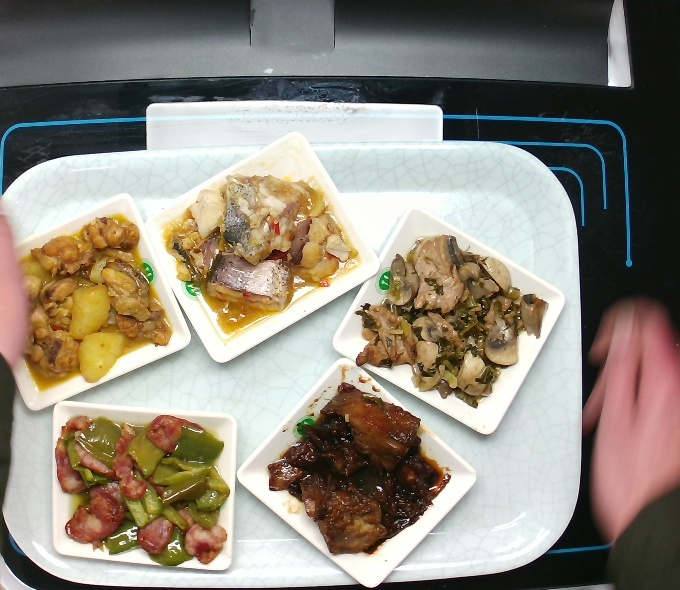wcq-DuoJiaoYuKuai: (160, 171, 364, 339)
wcq-JiangZhiYa: (263, 378, 457, 561)
wcq-MoGuRouPian: (349, 229, 554, 414)
wcq-QingJiaoXiangChang: (51, 409, 235, 568)
wcq-TuDouJiKuai: (15, 210, 178, 395)
